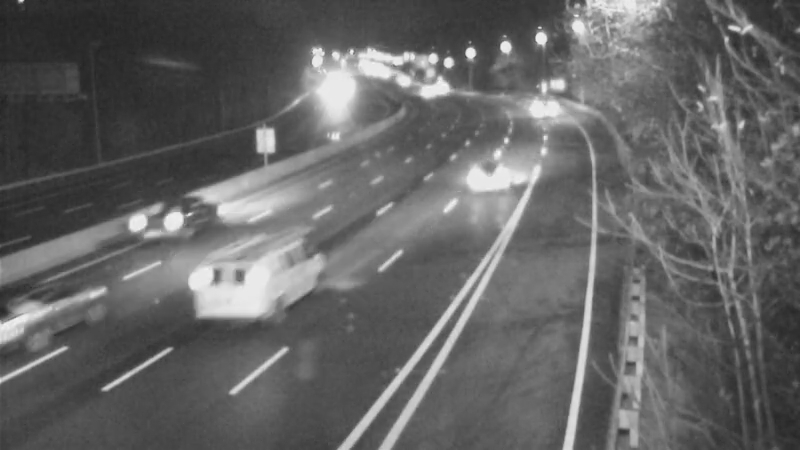vehicle: (168, 246, 278, 356), (1, 264, 90, 374), (468, 137, 548, 217), (112, 192, 192, 272), (406, 66, 456, 116), (519, 86, 569, 136)
